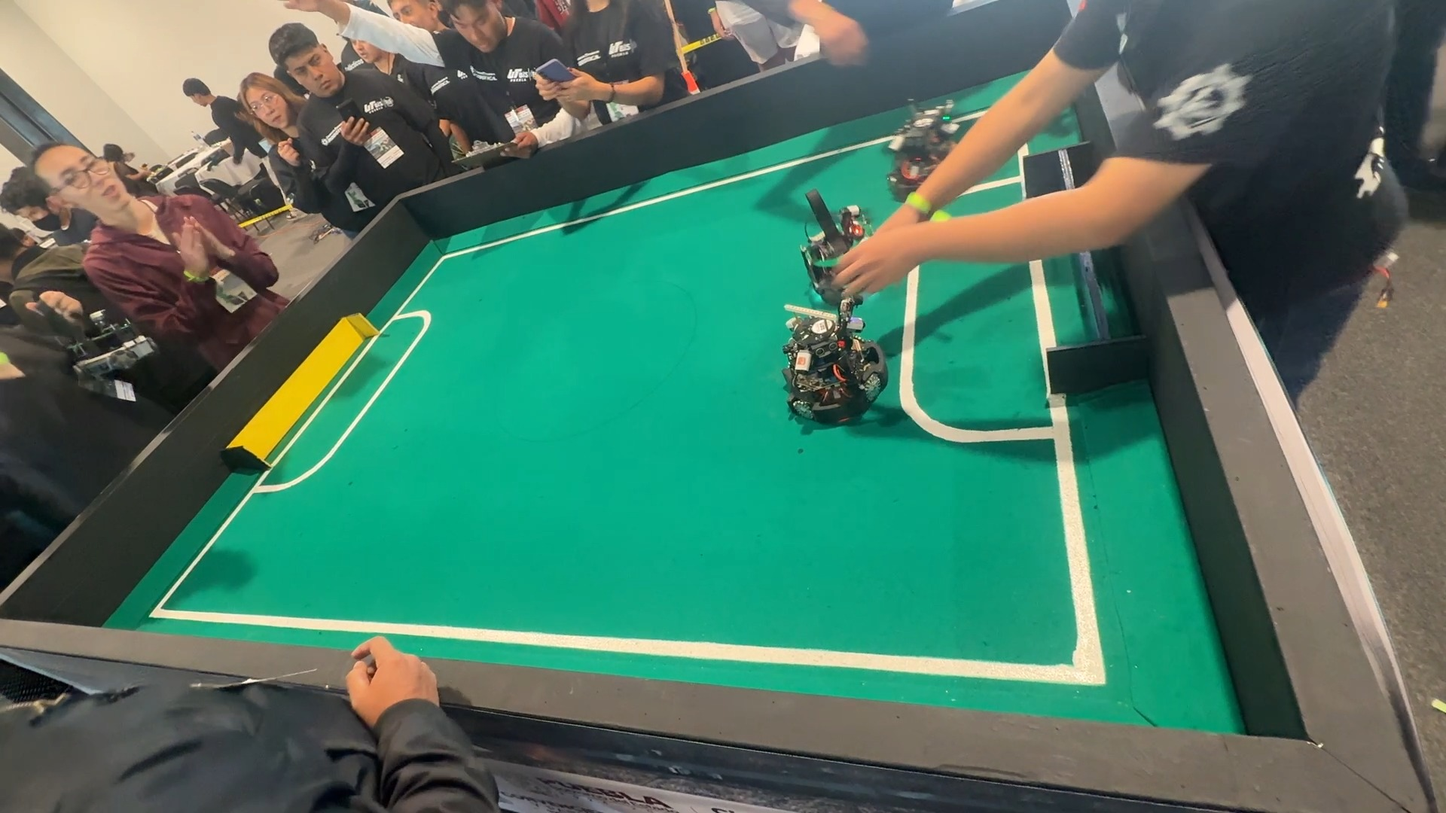Robot: (779, 281, 900, 443), (884, 100, 984, 227), (784, 187, 874, 287)
